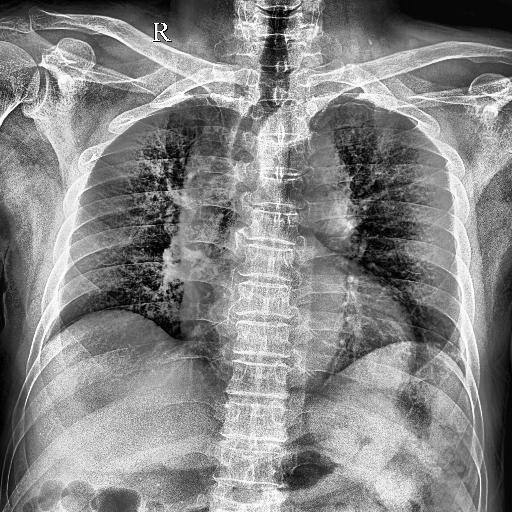0- Aortic enlargement: (174, 110, 356, 230), (180, 118, 353, 236), (180, 127, 372, 219)
3- Cardiomegaly: (163, 270, 432, 368)
